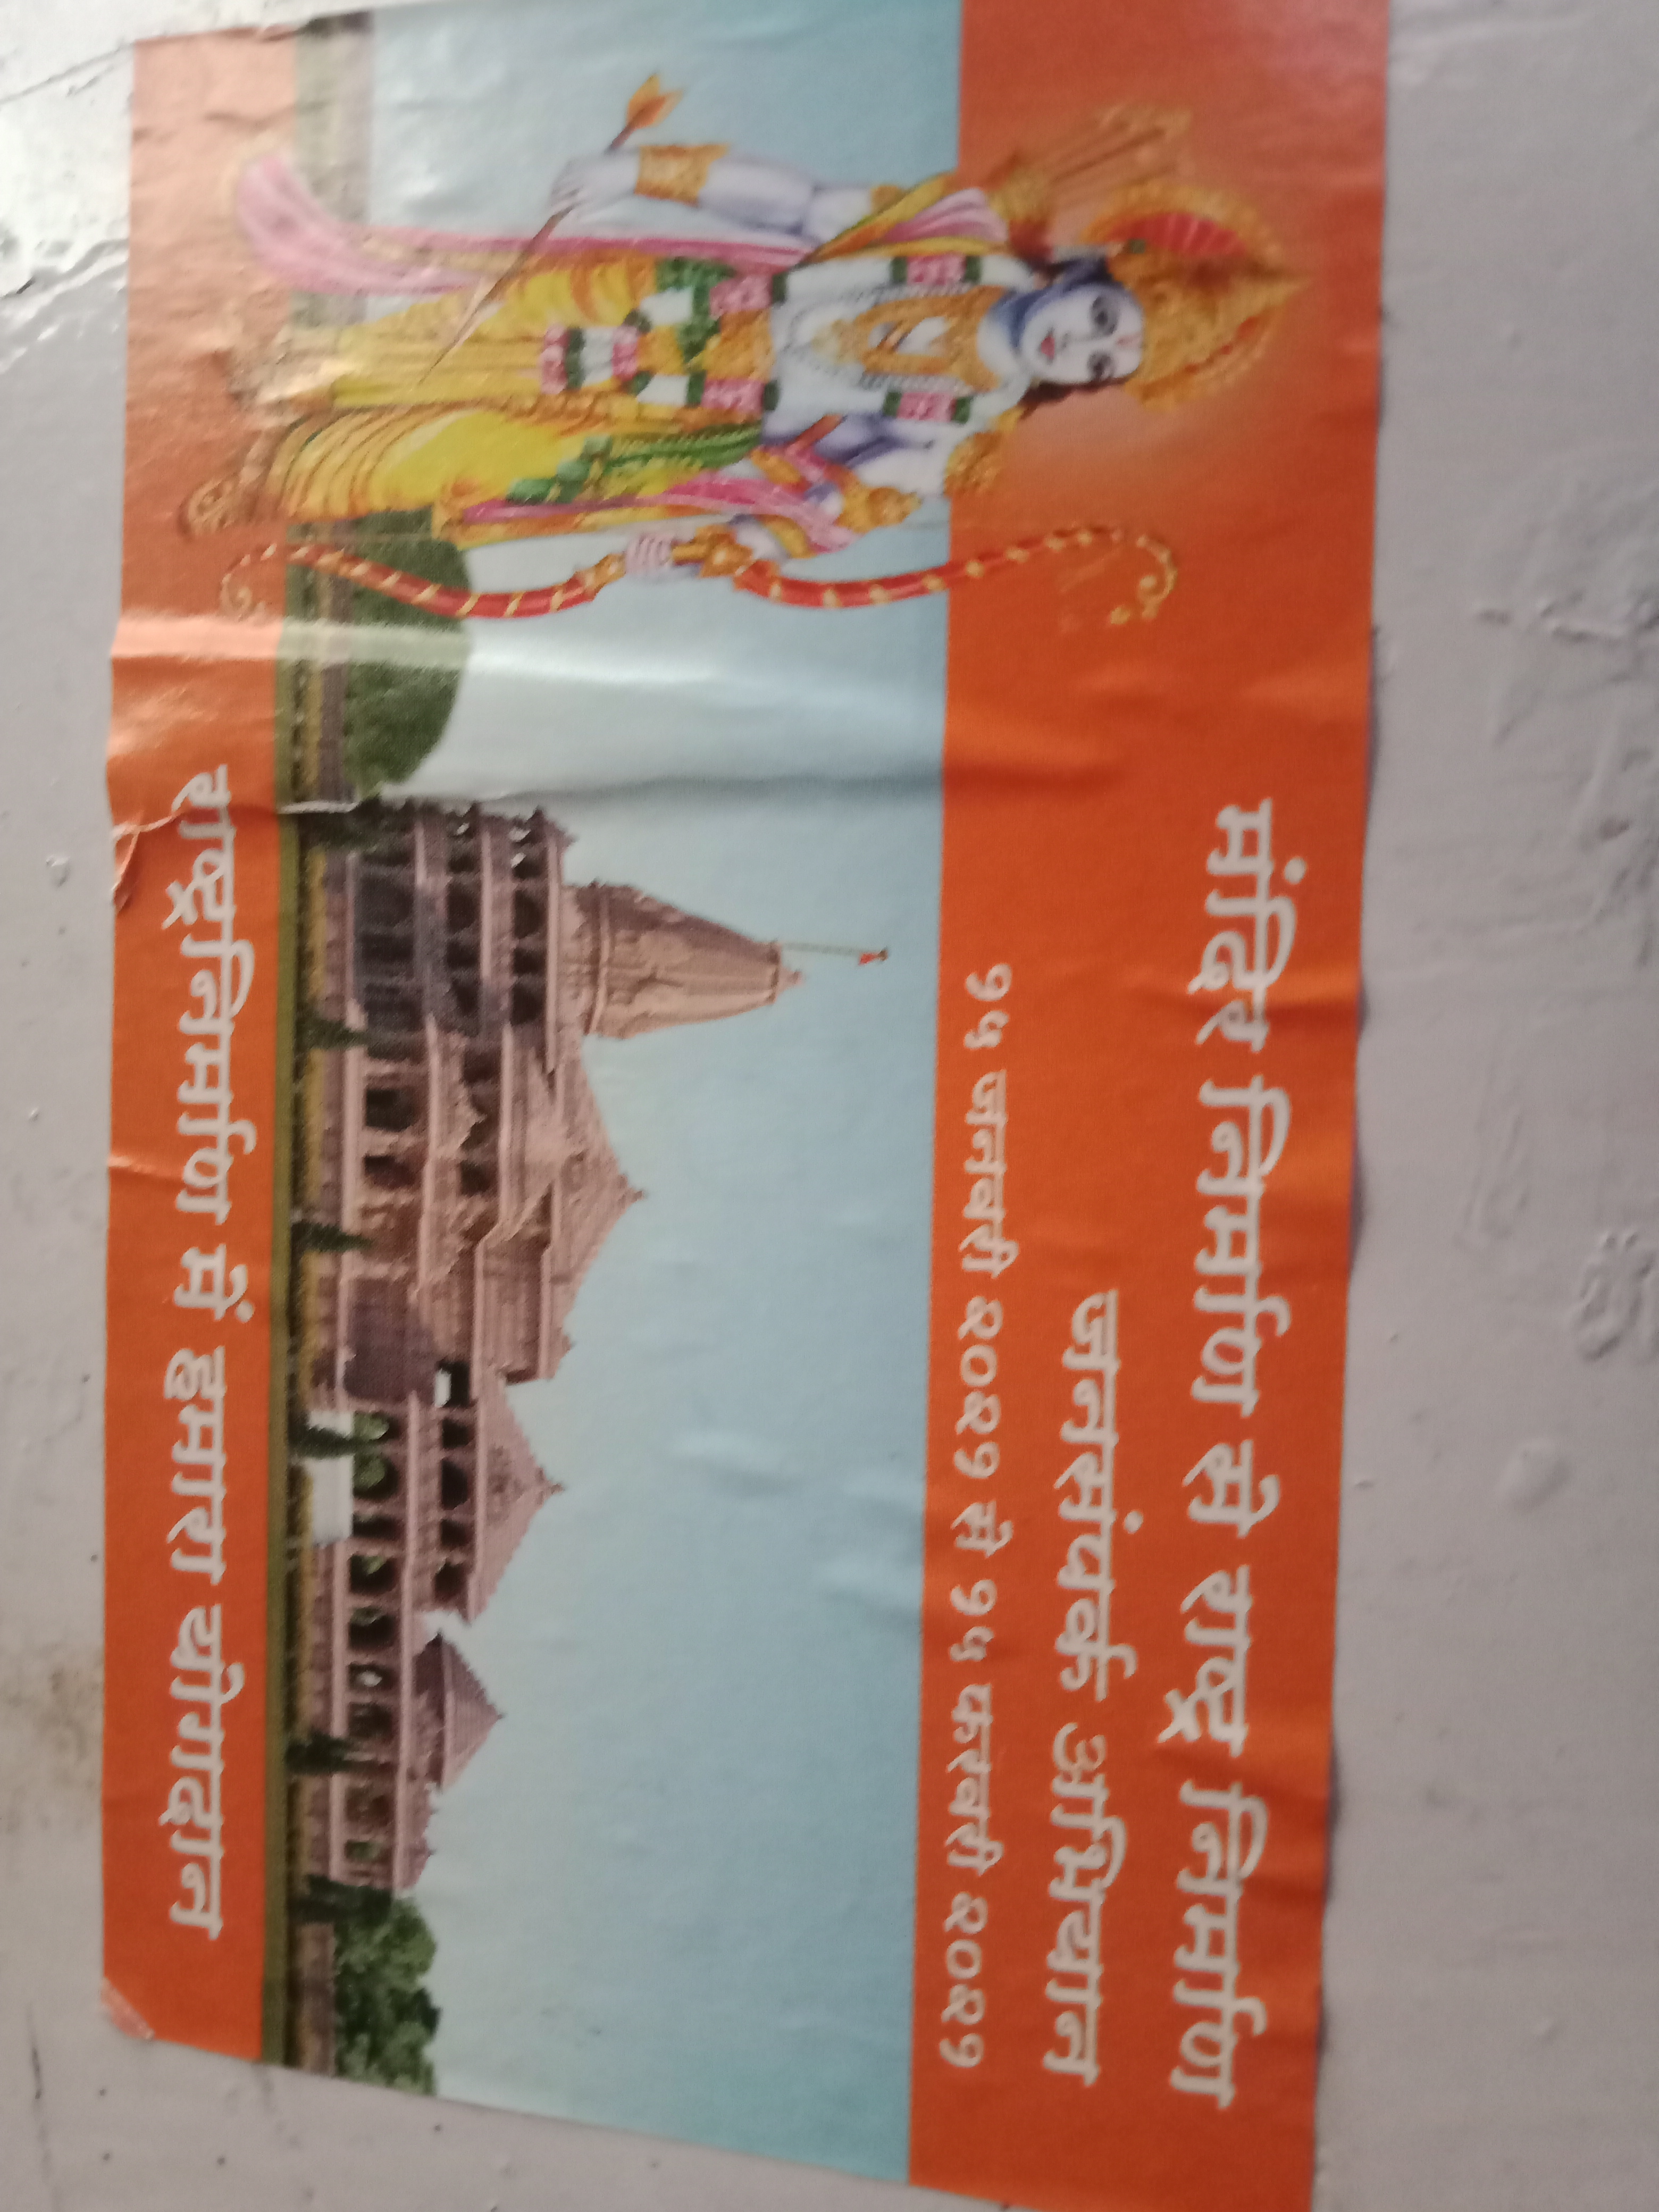text: (904, 7, 1394, 2203)
